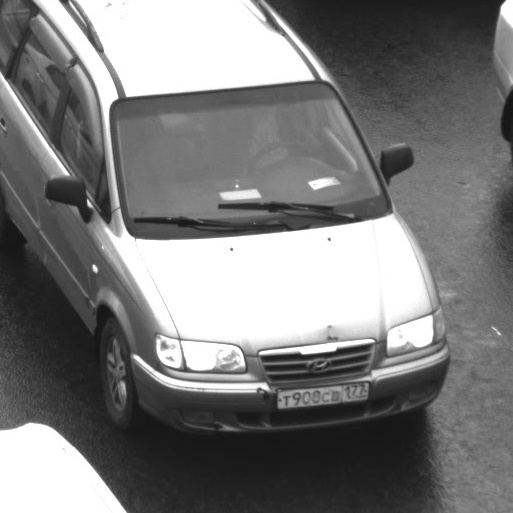plate: (265, 370, 379, 415)
